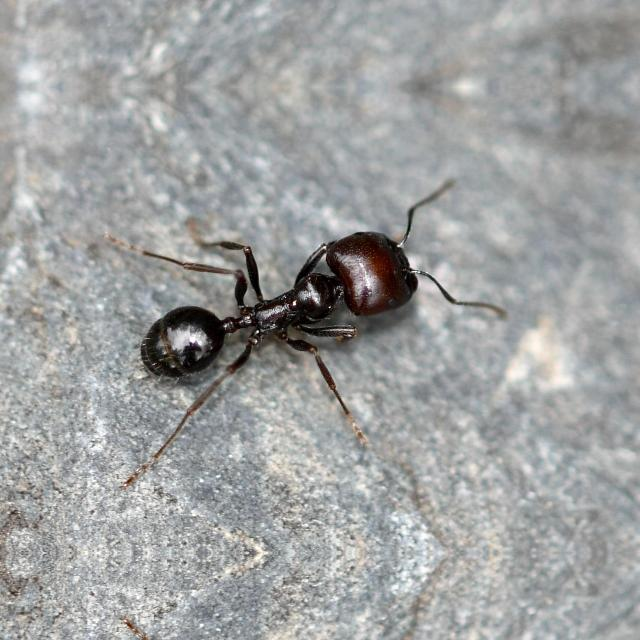Messor: (142, 210, 416, 390)
